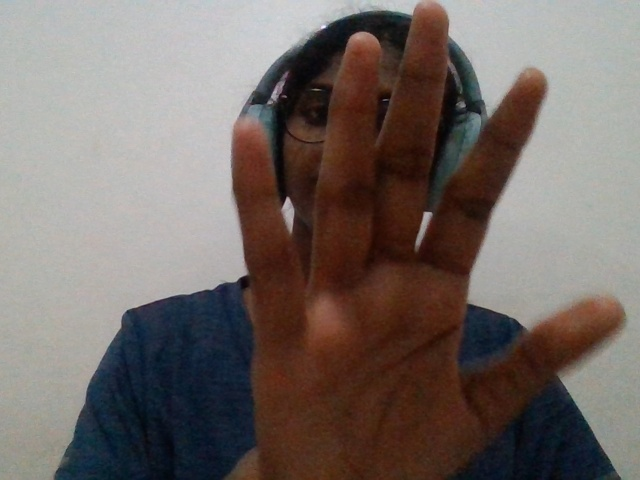Bye: (204, 1, 640, 477)
